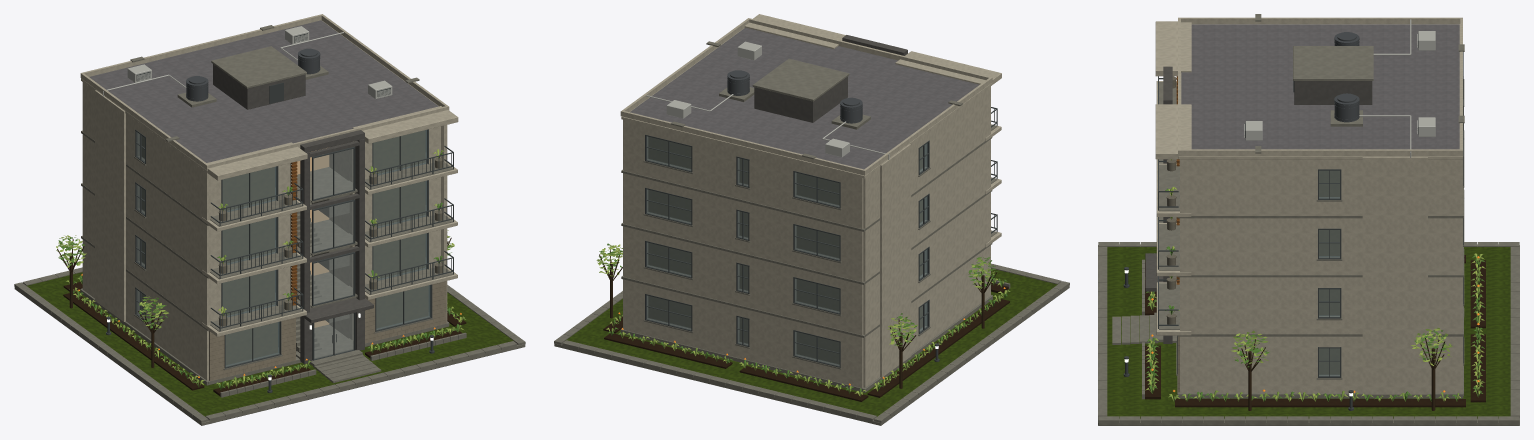
The model's file is apartamentos.fbx.
3 views of the same model, side by side, from view 1: azimuth 30°, elevation 25°; view 2: azimuth 150°, elevation 25°; view 3: azimuth 270°, elevation 25° (orthographic). The views are drawn at different scales.
Parts seen in each view (by area): view 1: Apartamentos_04; view 2: Apartamentos_04; view 3: Apartamentos_04.
Boxes of the visible parts, x1,y1,x2,y2 form: Apartamentos_04: (14, 14, 525, 425); Apartamentos_04: (554, 14, 1069, 425); Apartamentos_04: (1098, 14, 1519, 425).
Size of the model in its own units: 2000 by 1438 by 2000.
Materials: 22 (11 with a texture image).
